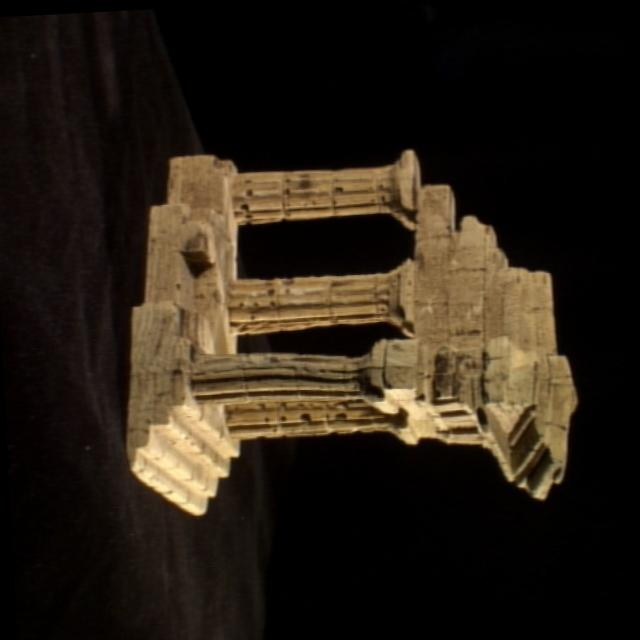Instance-Segmentation: (125, 151, 575, 515)
